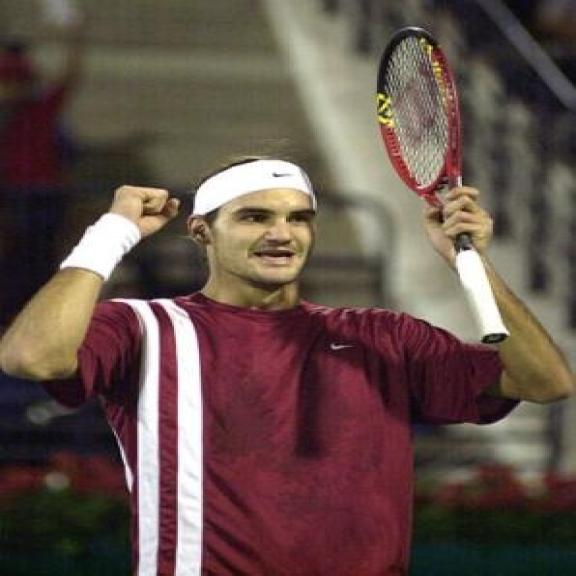face: (186, 192, 320, 291)
